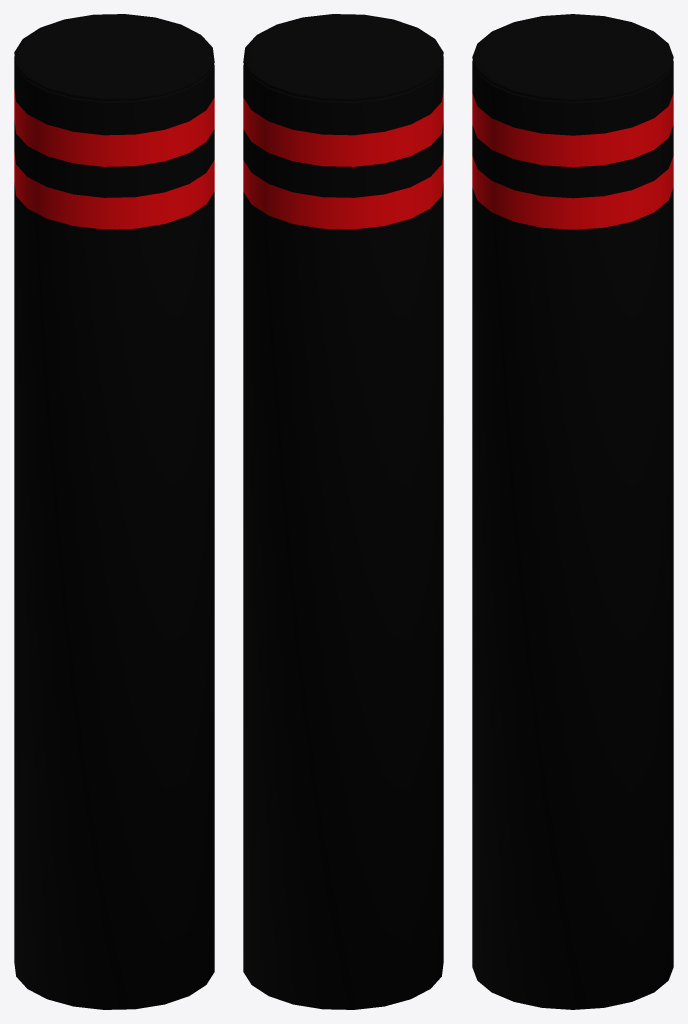
Rendered from Bollard.fbx.
The picture shows the model from 3 angles, left to right: view 1: azimuth 30°, elevation 25°; view 2: azimuth 150°, elevation 25°; view 3: azimuth 270°, elevation 25°; orthographic projection.
Visible parts, largest first — view 1: Bollard; view 2: Bollard; view 3: Bollard.
Boxes of the visible parts, <box> form: Bollard: <box>14,14,214,1009</box>; Bollard: <box>243,14,443,1009</box>; Bollard: <box>472,14,673,1009</box>.
Bounding box in the file's own units: 20 × 100 × 20.
